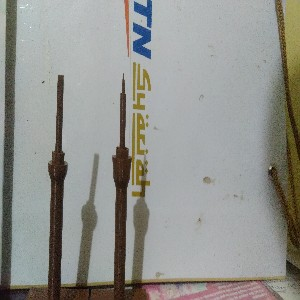obeng: (46, 73, 70, 300)
solder: (111, 70, 133, 300)
